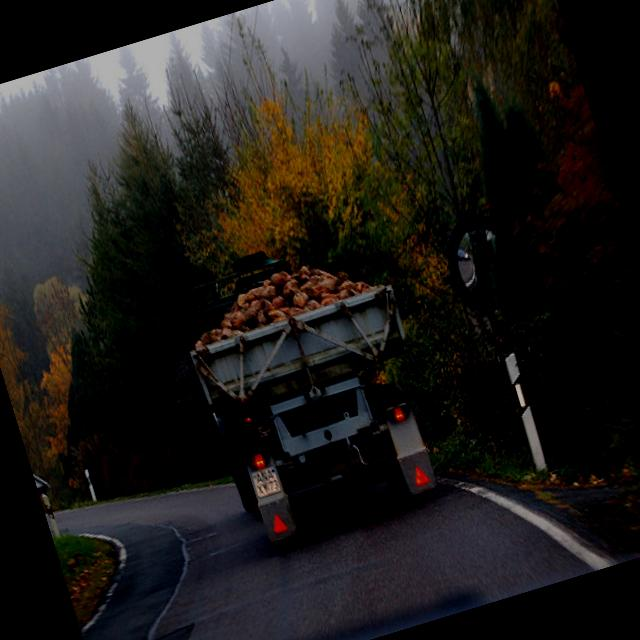Vehicle: (168, 214, 458, 560)
